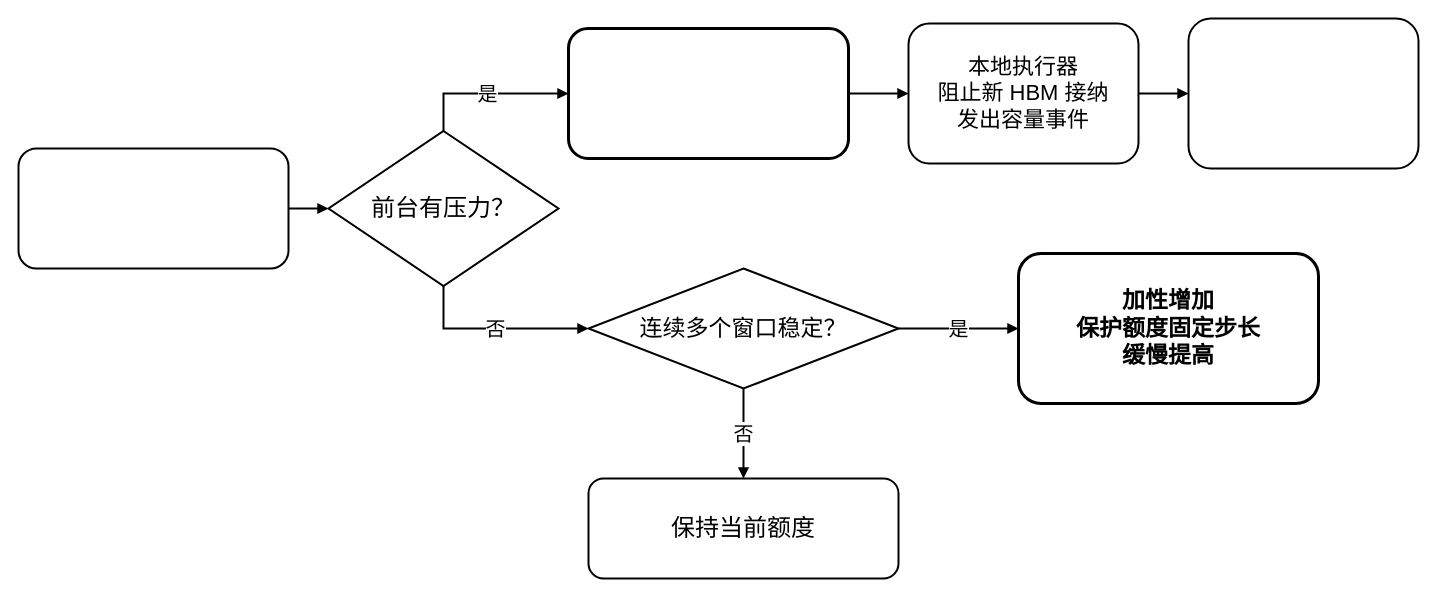
Image size: 1436x596. Some labels were removed from this diagram. The shapes that lost their labels are listed below. From the top down, each one's centre as x and y in pixels, then its label:
At [708,93]: "乘性降低 保护额度按比例快速缩小".
At [1303,93]: "存储控制模块按优先级 回收备份的 KV 用于正常推理".
At [153,208]: "每个控制窗口 读取显存压力".
